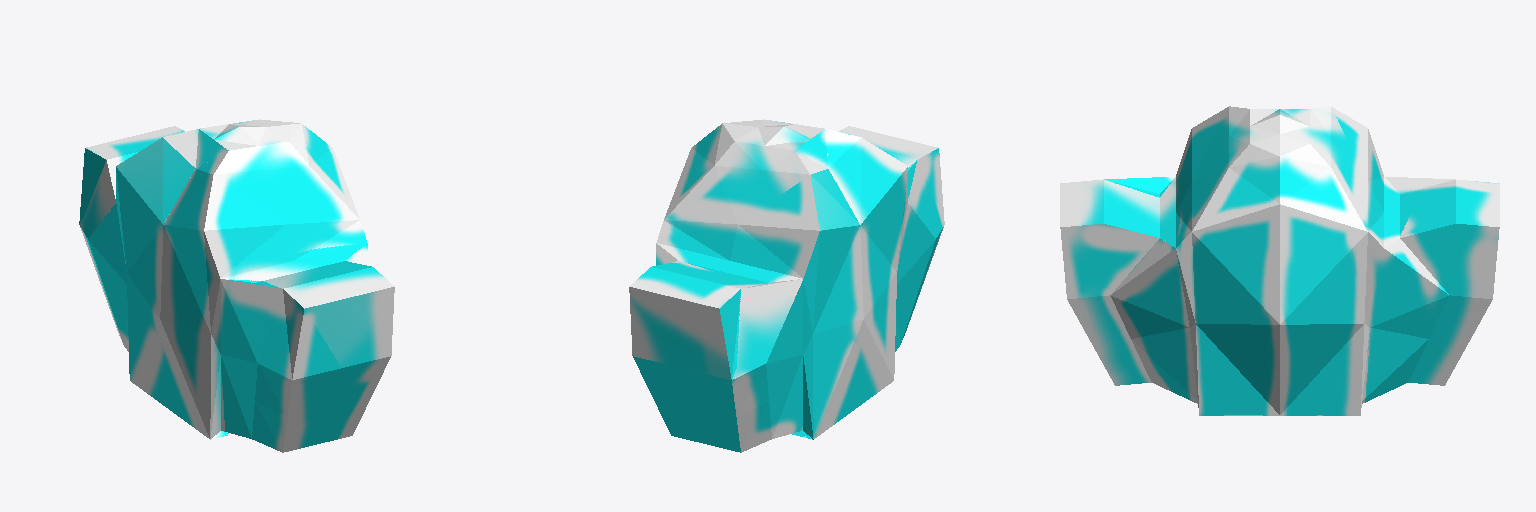
3 renders of one model, left to right at view 1: azimuth 30°, elevation 25°; view 2: azimuth 150°, elevation 25°; view 3: azimuth 270°, elevation 25°, orthographic.
Parts seen in each view (by area): view 1: 立方体; view 2: 立方体; view 3: 立方体.
Boxes of the visible parts, <box> form: 立方体: <box>79,119,394,452</box>; 立方体: <box>629,119,944,452</box>; 立方体: <box>1060,106,1499,415</box>.
Bounding box in the file's own units: 2.38 × 3.15 × 4.71.
Materials: 1 (1 with a texture image).